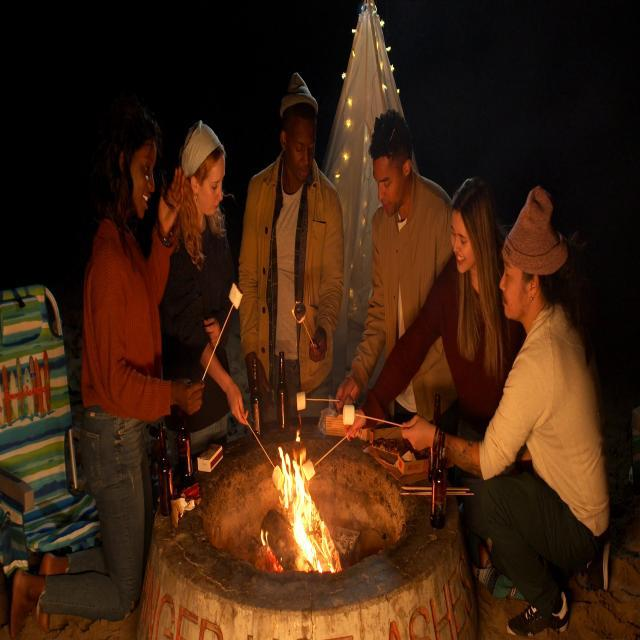Fire: (275, 448, 339, 575)
